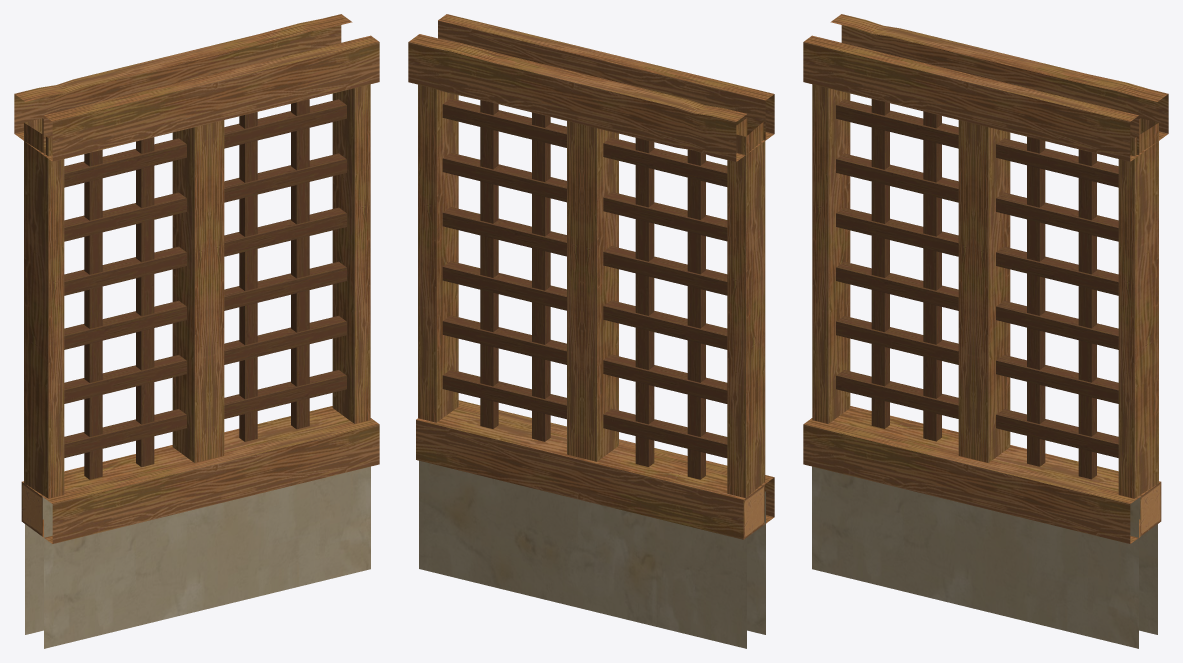
Rendered from Wall_Plaster_WoodGrid.glb.
3 renders of one model, left to right at view 1: azimuth 30°, elevation 25°; view 2: azimuth 150°, elevation 25°; view 3: azimuth 330°, elevation 25°, orthographic.
Visible parts, largest first — view 1: Wall_Plaster_WoodGrid; view 2: Wall_Plaster_WoodGrid; view 3: Wall_Plaster_WoodGrid.
Boxes of the visible parts, <box> form: Wall_Plaster_WoodGrid: <box>14,14,379,648</box>; Wall_Plaster_WoodGrid: <box>408,14,774,648</box>; Wall_Plaster_WoodGrid: <box>803,14,1168,648</box>.
Bounding box in the file's own units: 2 × 3.12 × 0.4065.
Materials: 2 (2 with a texture image).
